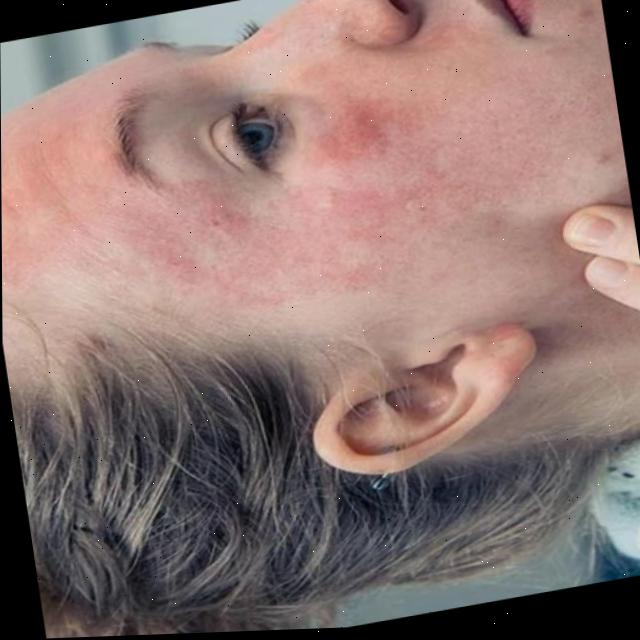Rosacea: (1, 176, 416, 351), (1, 82, 110, 218), (327, 104, 398, 165)
